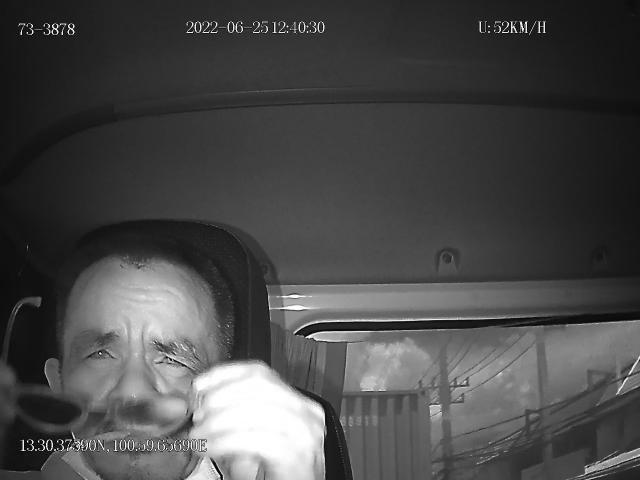SafeDriving: (78, 334, 123, 372)
Smoking: (72, 429, 132, 449)
